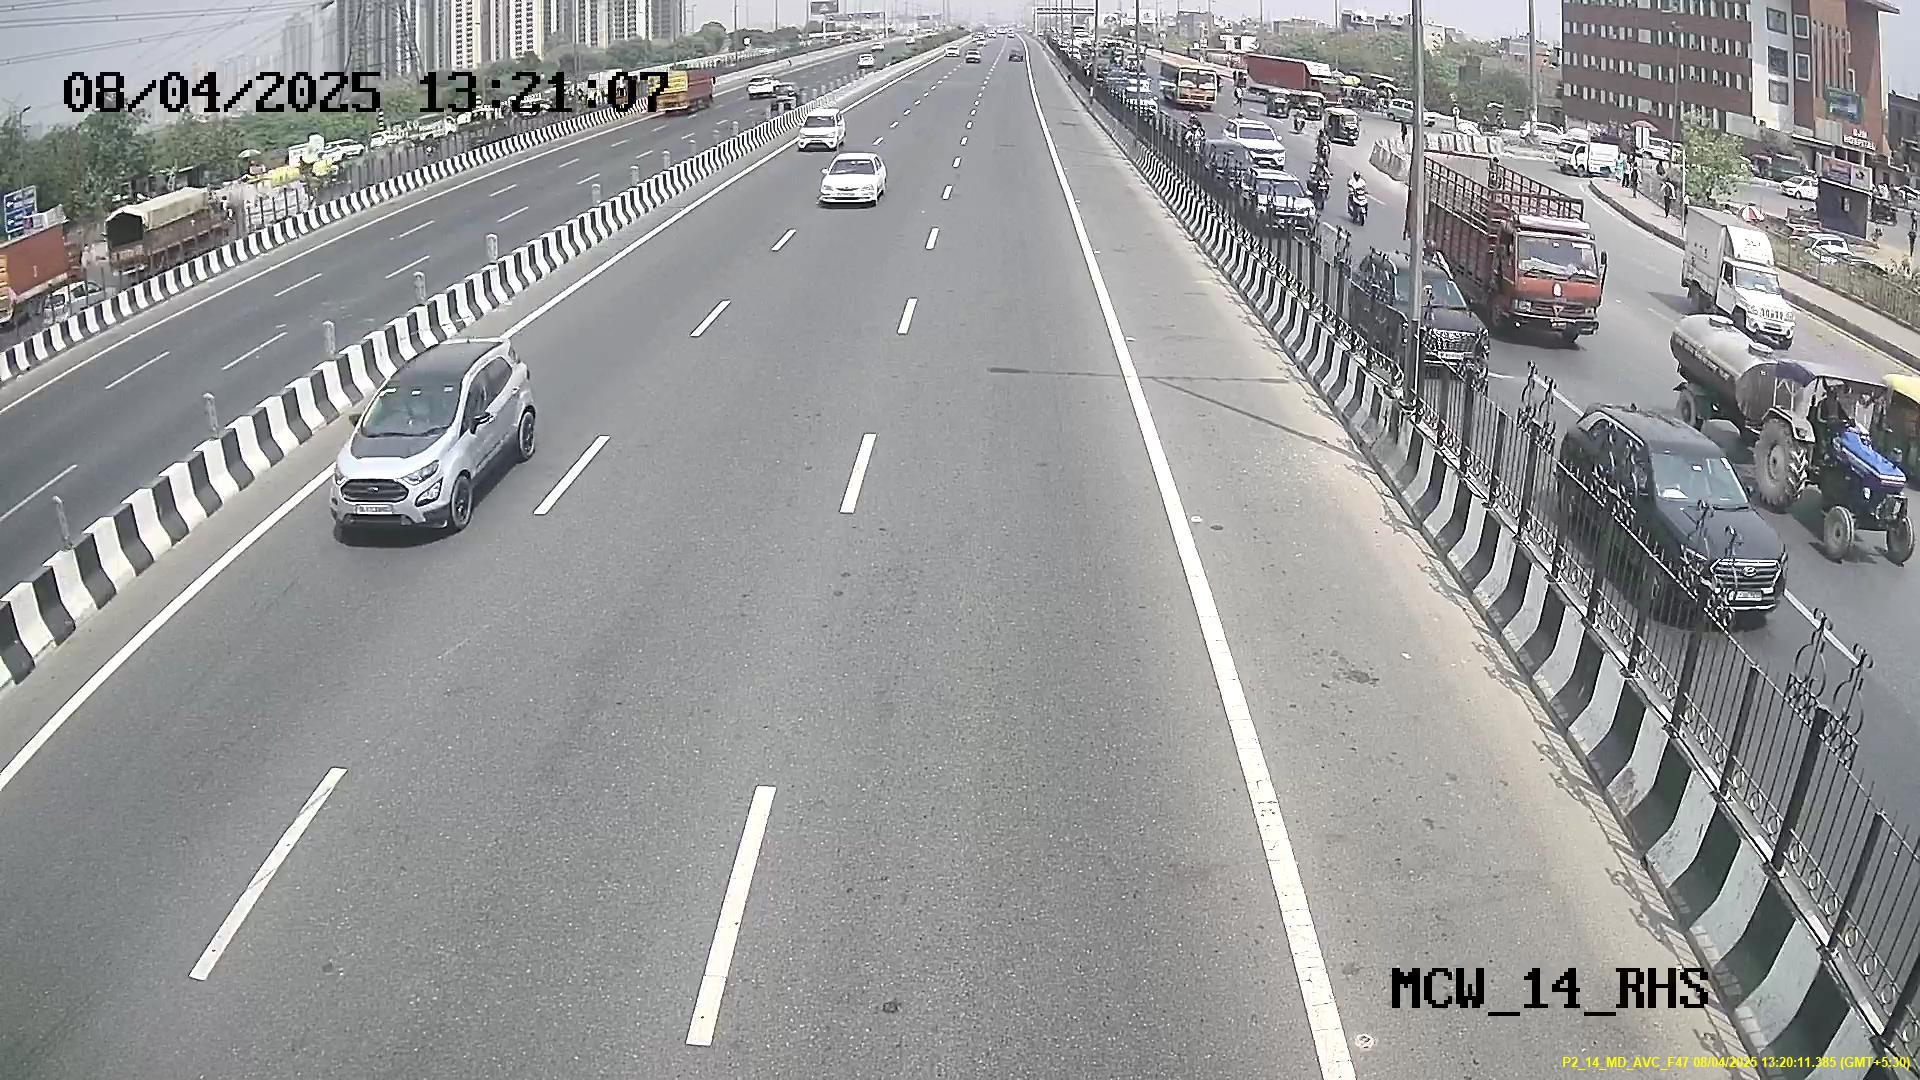car: (324, 356, 493, 537)
